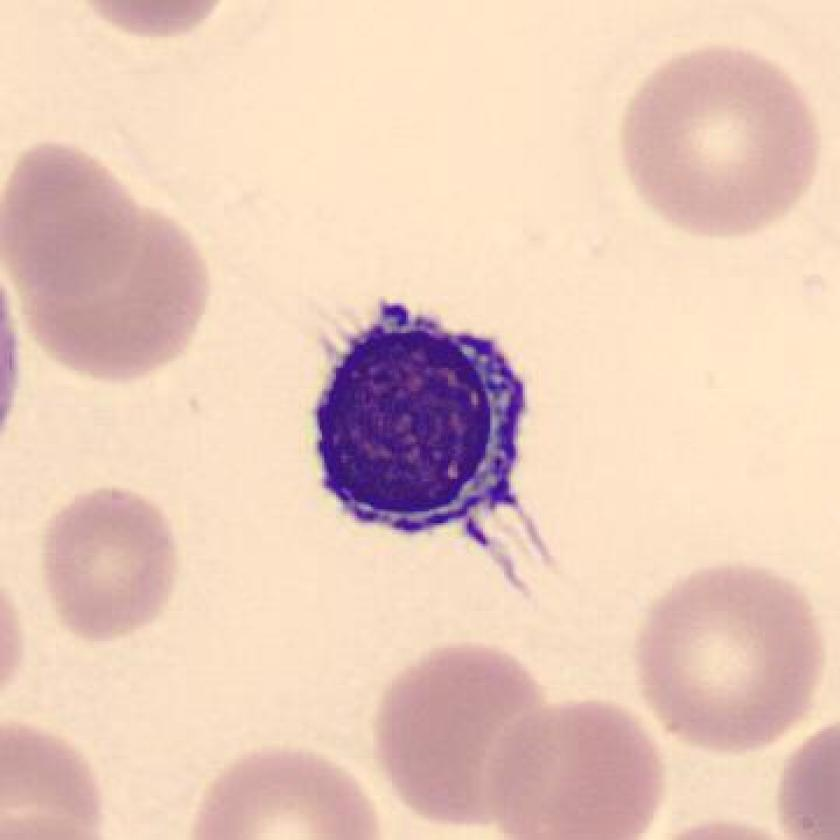lymphocyte: (302, 293, 547, 547)
